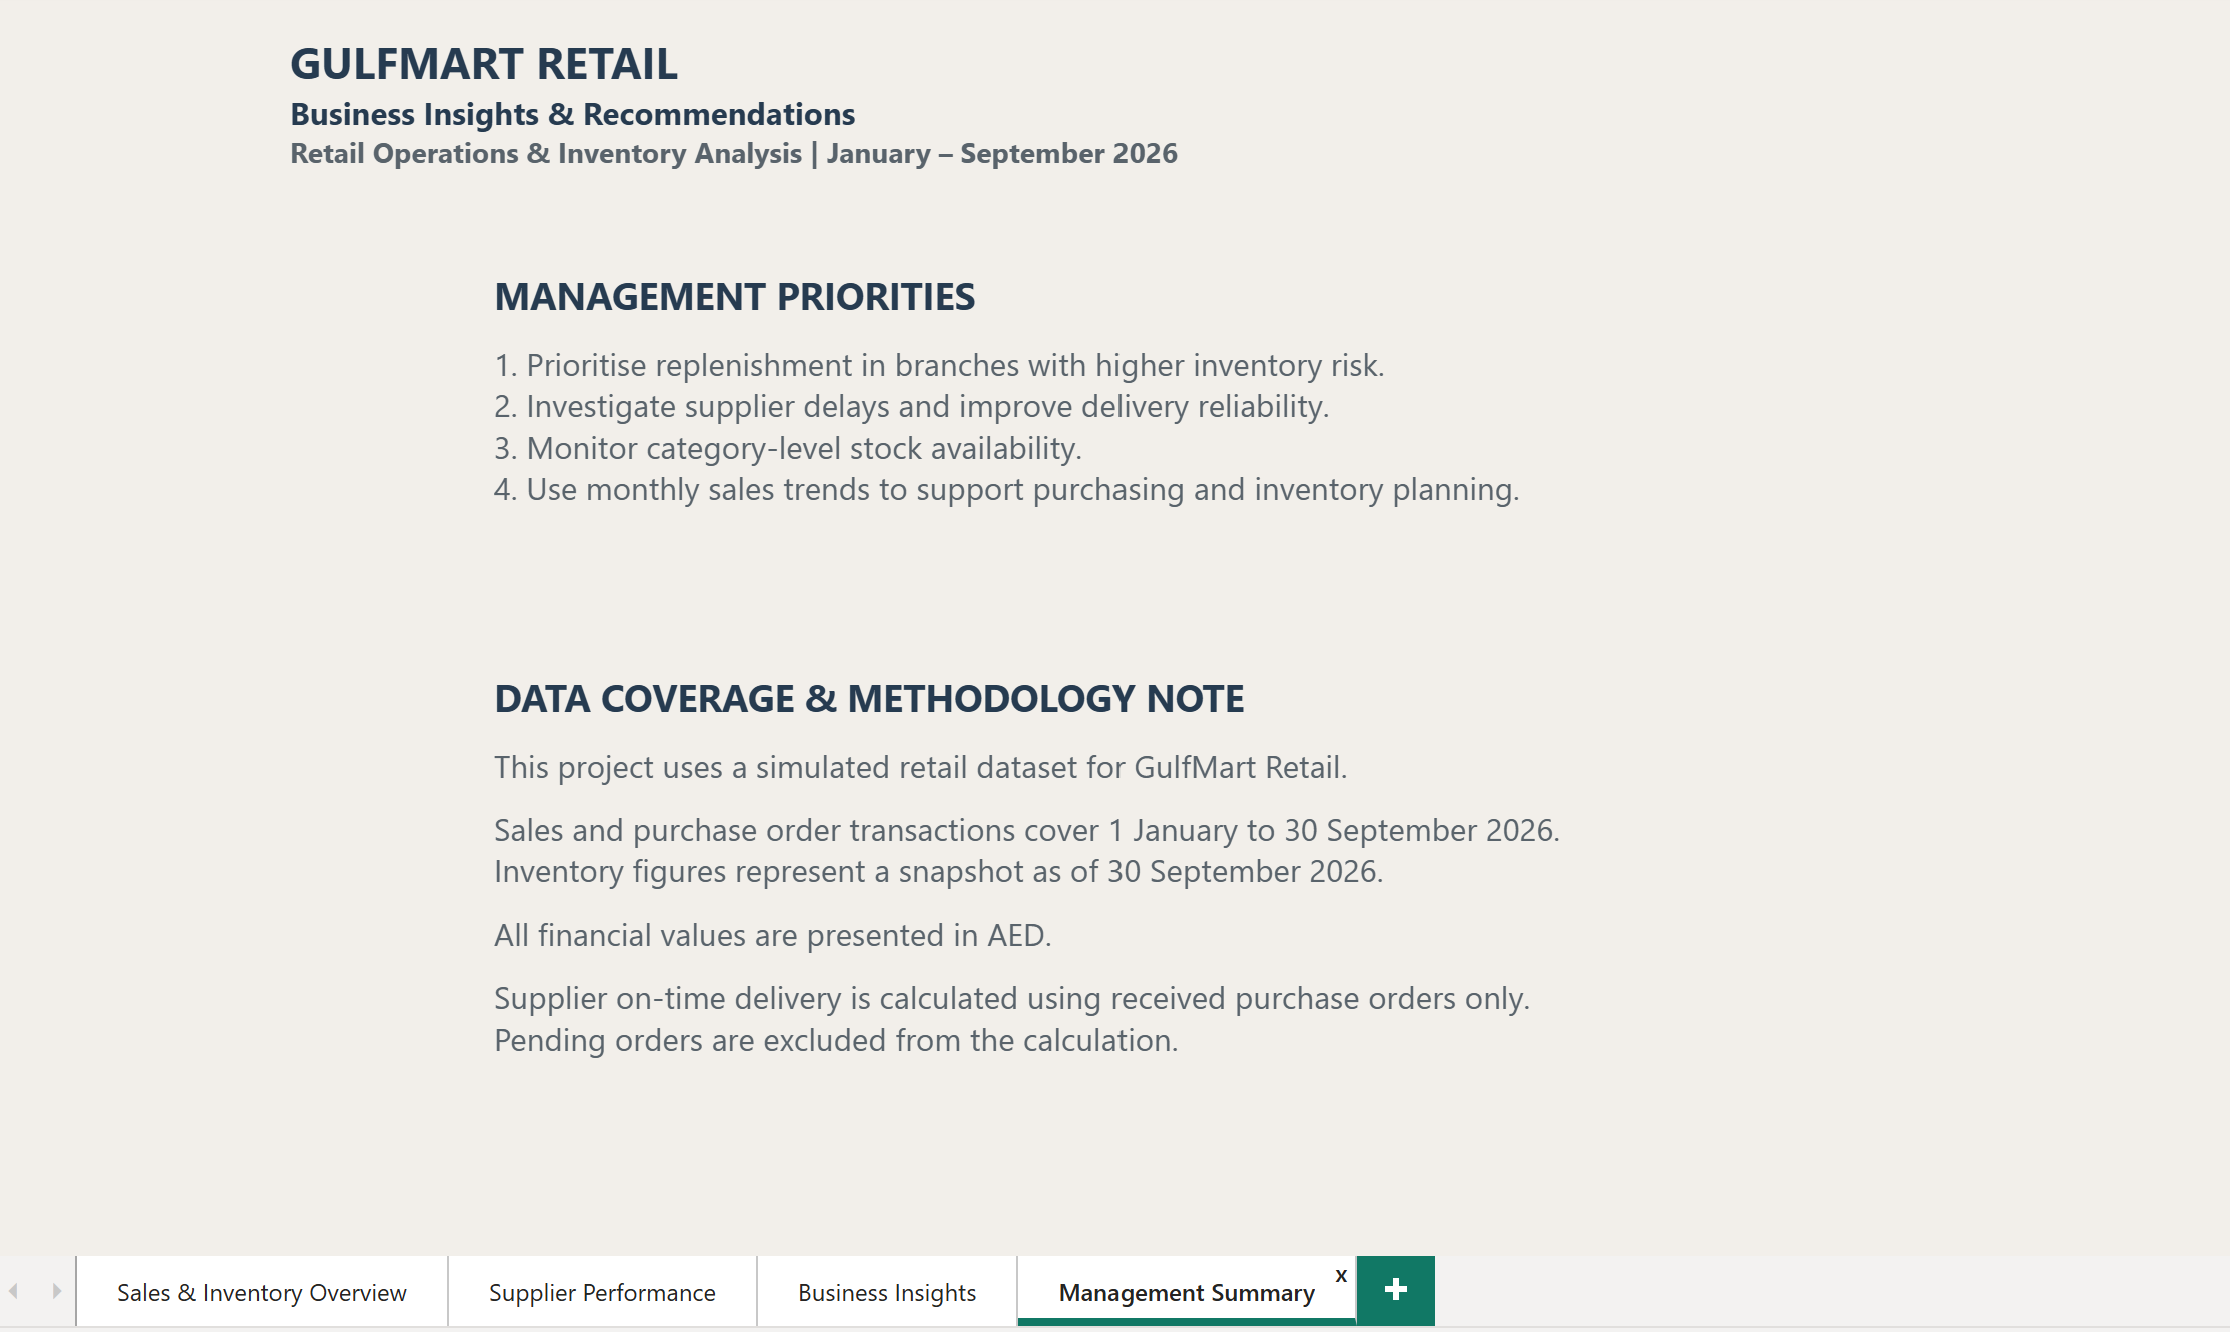

What the dashboard file says about the page in this screenshot:
{"tool":"powerbi","page":{"name":"Management Summary","canvas":[1920,1080],"ordinal":3},"visuals":[{"type":"textbox","box":[254.1,36.5,1270.3,143.2],"z":0},{"type":"textbox","box":[428.4,239,919.8,300.2],"z":1000},{"type":"textbox","box":[428.4,581.4,919.8,460.9],"z":2000}]}

Visuals, with their boxes on the page's 1920x1080 design canvas (x1, y1, x2, y2). These are canvas units, not pixel positions in the 2230x1332 screenshot, which may show the page scaled, cropped or inside an application window:
textbox: BBox(254, 36, 1524, 180)
textbox: BBox(428, 239, 1348, 539)
textbox: BBox(428, 581, 1348, 1042)
